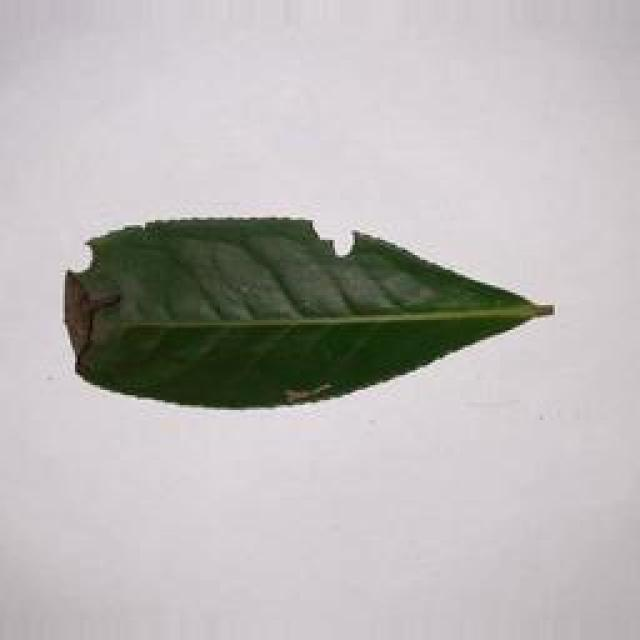Brown Blight: (33, 208, 565, 398)
